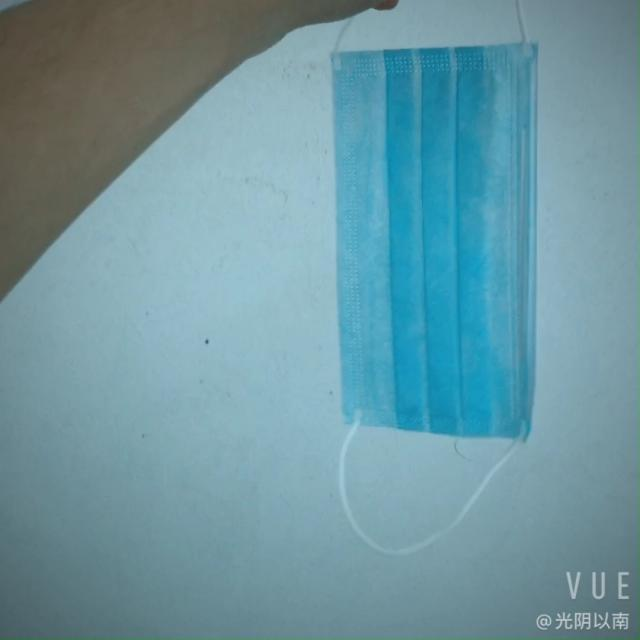face mask: (320, 43, 546, 437)
